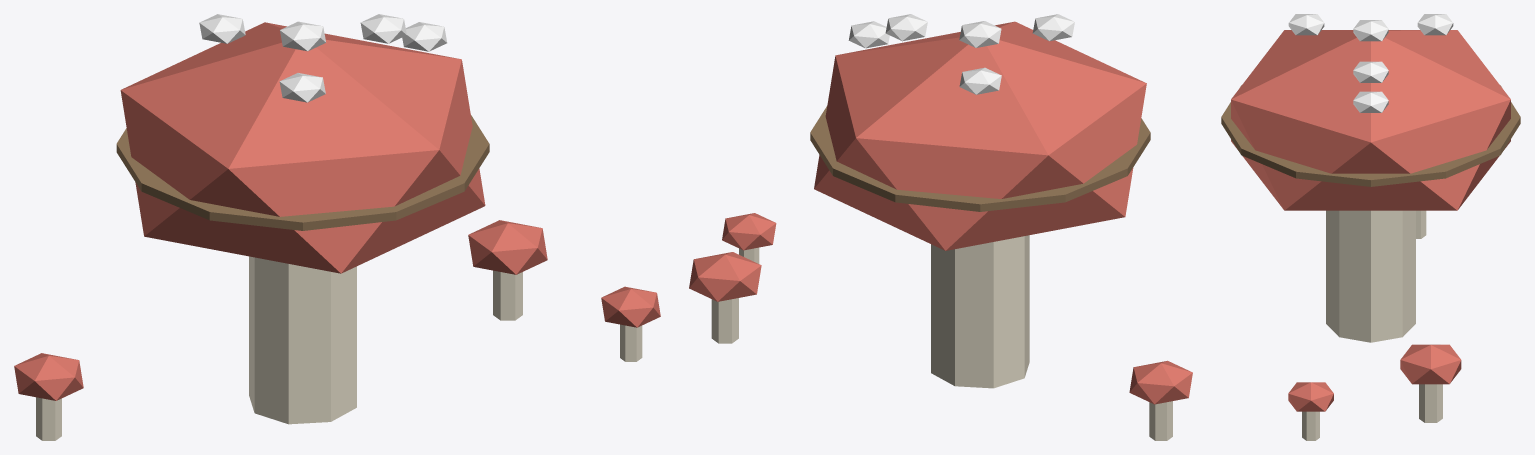
File: GiantMushroom.glb
3 views of the same model, side by side, from view 1: azimuth 30°, elevation 25°; view 2: azimuth 150°, elevation 25°; view 3: azimuth 270°, elevation 25° (orthographic). The views are drawn at different scales.
Parts seen in each view (by area): view 1: GiantMushroom_Cap, GiantMushroom_Stem, GiantMushroom_Gills, GiantMushroom_MiniCap, GiantMushroom_MiniCap.002, GiantMushroom_MiniCap.001, GiantMushroom_MiniStem, GiantMushroom_Spot.001, GiantMushroom_Spot.002, GiantMushroom_Spot, GiantMushroom_Spot.003, GiantMushroom_MiniStem.002 (+2 smaller); view 2: GiantMushroom_Cap, GiantMushroom_Stem, GiantMushroom_Gills, GiantMushroom_MiniCap, GiantMushroom_MiniCap.002, GiantMushroom_MiniCap.001, GiantMushroom_MiniStem, GiantMushroom_MiniStem.002, GiantMushroom_Spot.003, GiantMushroom_Spot.001, GiantMushroom_Spot, GiantMushroom_Spot.002 (+1 smaller); view 3: GiantMushroom_Cap, GiantMushroom_Stem, GiantMushroom_Gills, GiantMushroom_MiniCap, GiantMushroom_MiniCap.001, GiantMushroom_MiniStem, GiantMushroom_Spot.002, GiantMushroom_Spot.003, GiantMushroom_Spot.004, GiantMushroom_Spot, GiantMushroom_Spot.001, GiantMushroom_MiniStem.001 (+1 smaller).
Part boxes in pixels (x1,y1,x2,y2): GiantMushroom_Cap: [120, 22, 485, 273]; GiantMushroom_Stem: [249, 256, 356, 424]; GiantMushroom_Gills: [116, 115, 489, 230]; GiantMushroom_MiniCap: [468, 220, 547, 274]; GiantMushroom_MiniCap.002: [14, 353, 83, 400]; GiantMushroom_MiniCap.001: [601, 286, 660, 327]; GiantMushroom_MiniStem: [493, 270, 522, 320]; GiantMushroom_Spot.001: [360, 14, 406, 43]; GiantMushroom_Spot.002: [199, 14, 245, 43]; GiantMushroom_Spot: [280, 21, 325, 51]; GiantMushroom_Spot.003: [279, 73, 325, 102]; GiantMushroom_MiniStem.002: [36, 397, 61, 440]; GiantMushroom_Cap: [814, 21, 1146, 250]; GiantMushroom_Stem: [931, 235, 1029, 388]; GiantMushroom_Gills: [810, 106, 1150, 211]; GiantMushroom_MiniCap: [689, 252, 761, 301]; GiantMushroom_MiniCap.002: [1129, 360, 1192, 404]; GiantMushroom_MiniCap.001: [722, 213, 776, 250]; GiantMushroom_MiniStem: [711, 298, 738, 343]; GiantMushroom_MiniStem.002: [1149, 401, 1172, 440]; GiantMushroom_Spot.003: [1032, 14, 1074, 41]; GiantMushroom_Spot.001: [885, 14, 927, 41]; GiantMushroom_Spot: [959, 21, 1001, 47]; GiantMushroom_Spot.002: [959, 67, 1001, 94]; GiantMushroom_Cap: [1231, 30, 1510, 210]; GiantMushroom_Stem: [1326, 210, 1415, 342]; GiantMushroom_Gills: [1221, 85, 1520, 186]; GiantMushroom_MiniCap: [1400, 344, 1461, 384]; GiantMushroom_MiniCap.001: [1288, 382, 1333, 411]; GiantMushroom_MiniStem: [1419, 384, 1442, 422]; GiantMushroom_Spot.002: [1417, 14, 1453, 35]; GiantMushroom_Spot.003: [1288, 14, 1324, 35]; GiantMushroom_Spot.004: [1353, 91, 1388, 112]; GiantMushroom_Spot: [1353, 20, 1388, 41]; GiantMushroom_Spot.001: [1353, 61, 1388, 82]; GiantMushroom_MiniStem.001: [1302, 411, 1319, 440].
Size of the model in its own units: 3.55 by 2.23 by 2.
